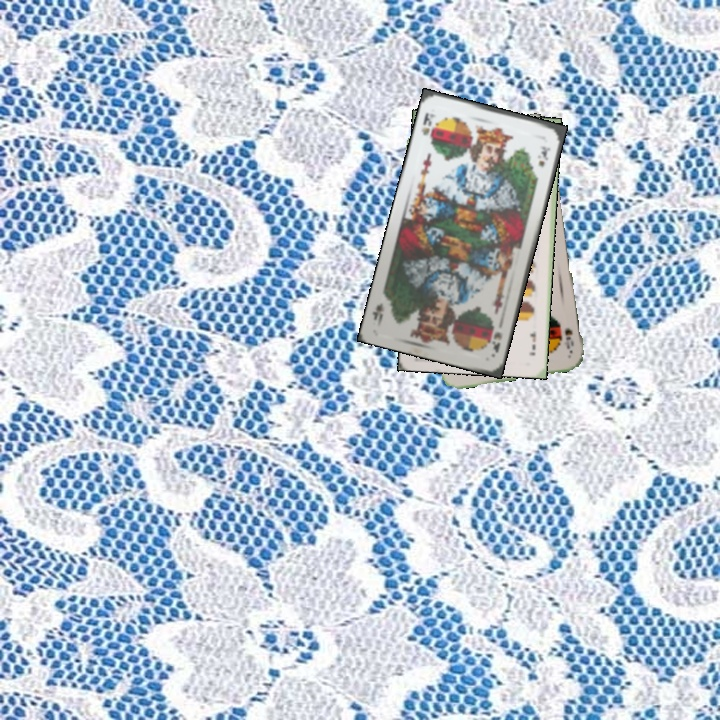E7: (525, 328, 539, 358)
SK: (416, 109, 438, 138), (488, 328, 505, 356)
SO: (560, 324, 576, 351)
